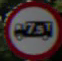Heavy Vehicles: (3, 1, 57, 53)
